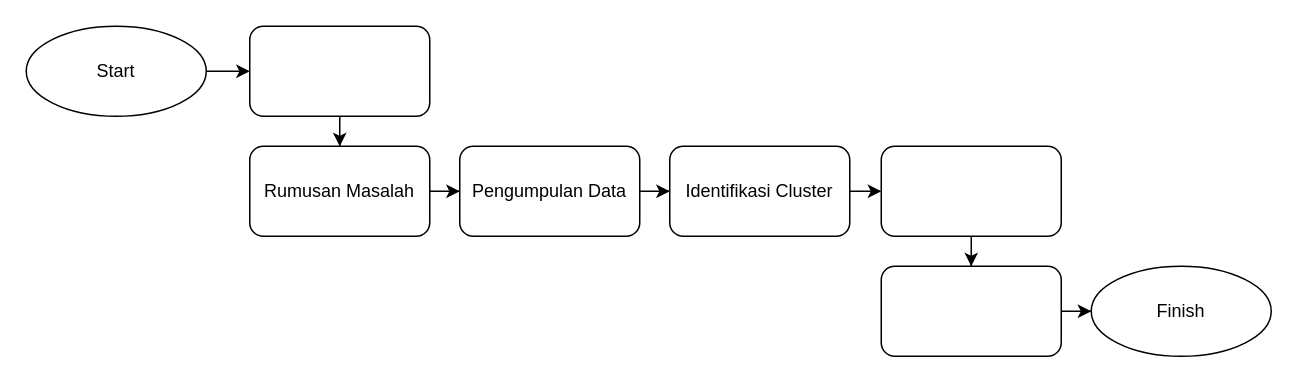
This 1298x383 diagram has some shape labels left out. Each missing label, with the centre of its shape:
Hasil: the point at 970,310
Pengolahan Data: the point at 970,190
Studi Literatur: the point at 339,70
